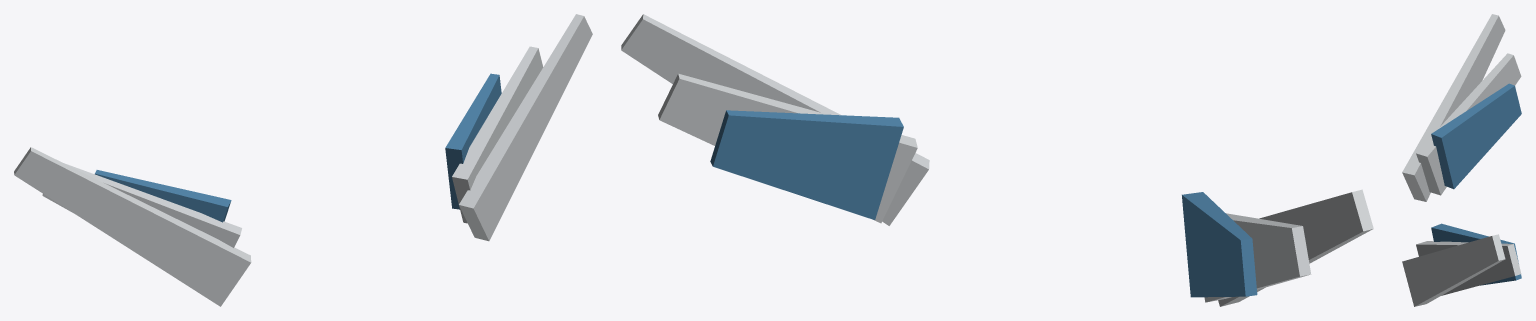
Rendered from crest_swiftcrest.glb.
3 views of the same model, side by side, from view 1: azimuth 30°, elevation 25°; view 2: azimuth 150°, elevation 25°; view 3: azimuth 270°, elevation 25° (orthographic). The views are drawn at different scales.
Parts seen in each view (by area): view 1: Crest_swiftcrest; view 2: Crest_swiftcrest; view 3: Crest_swiftcrest.
Boxes of the visible parts, left/top/right/bottom form: Crest_swiftcrest: left=14, top=14, right=592, bottom=306; Crest_swiftcrest: left=621, top=14, right=1373, bottom=306; Crest_swiftcrest: left=1402, top=14, right=1521, bottom=306.
Size of the model in its own units: 1.17 by 0.3003 by 0.2543.
